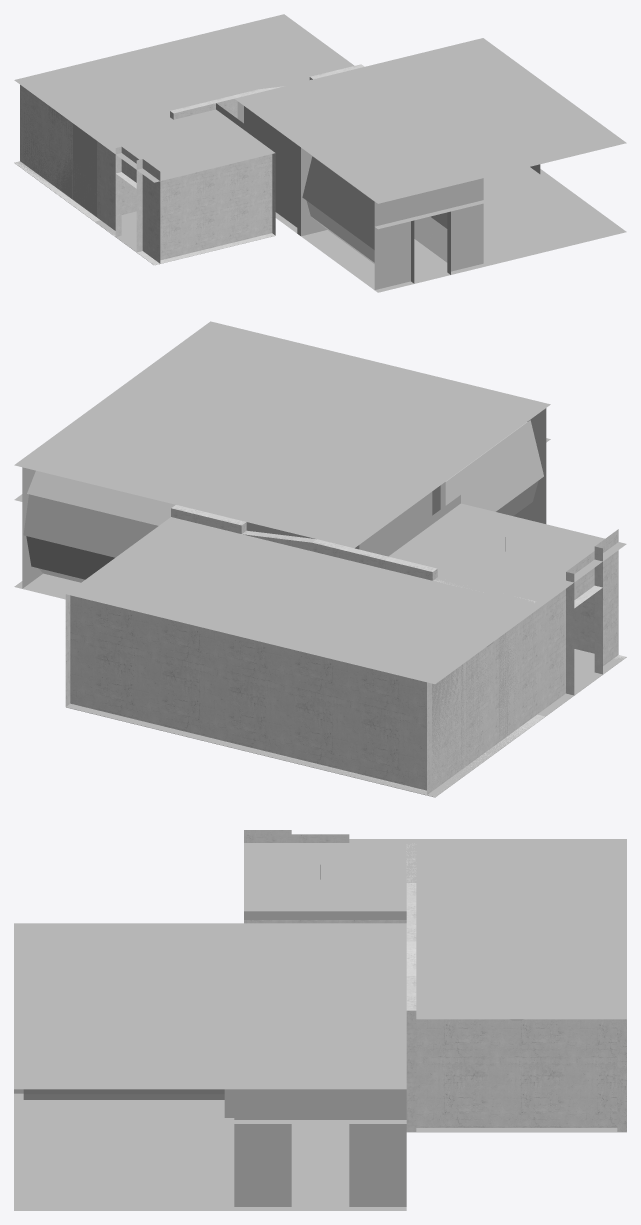
Rendered from 513Chamber.fbx.
3 views of the same model, one above another, from view 1: azimuth 30°, elevation 25°; view 2: azimuth 150°, elevation 25°; view 3: azimuth 270°, elevation 25° (orthographic). The views are drawn at different scales.
Parts seen in each view (by area): view 1: room513_opt; view 2: room513_opt; view 3: room513_opt.
Part boxes in pixels (bbox=[...]): room513_opt: bbox=[14, 14, 626, 292]; room513_opt: bbox=[14, 321, 626, 797]; room513_opt: bbox=[14, 830, 626, 1210].
Size of the model in its own units: 15360 by 3539 by 15360.
